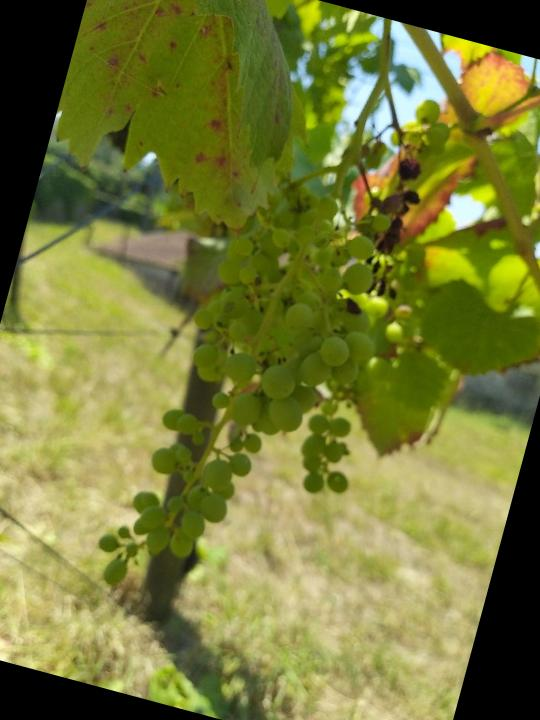grape: (87, 152, 412, 637)
